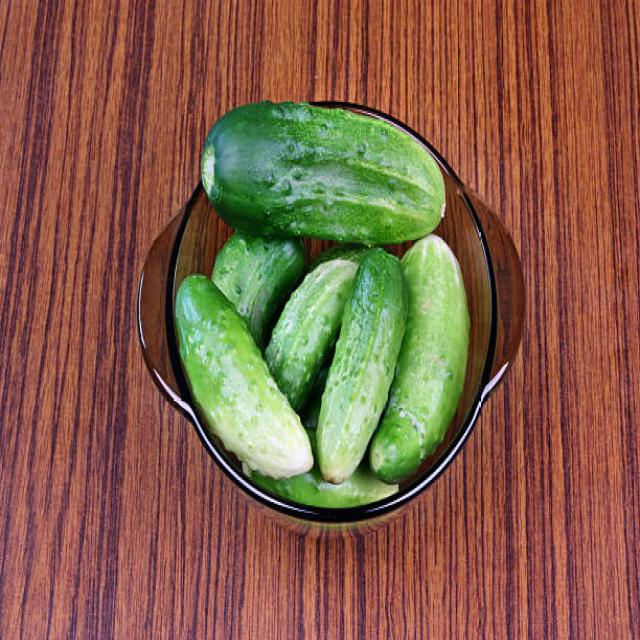cucumber: (200, 98, 446, 244), (175, 272, 314, 477), (372, 233, 471, 479), (315, 246, 408, 483)
